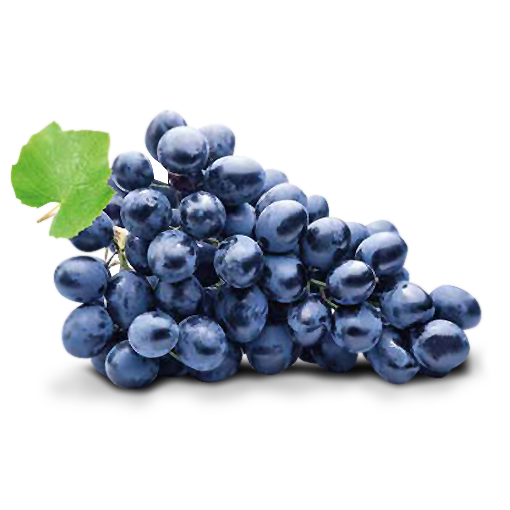Black grapes: (61, 140, 510, 393)
